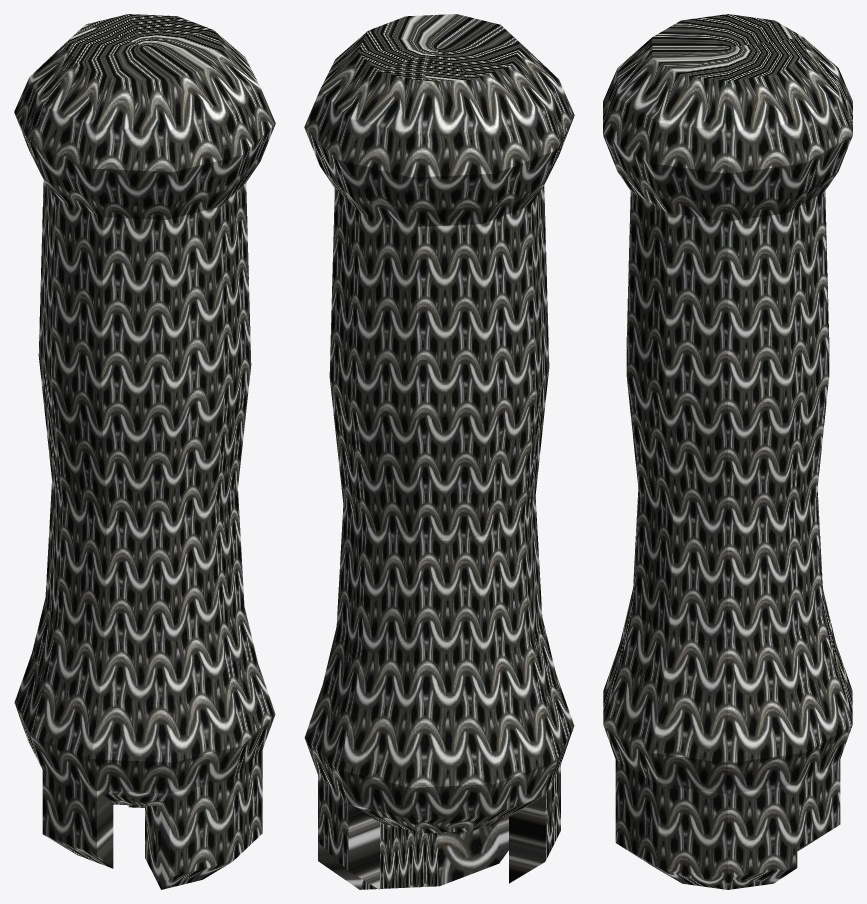
Rendered from LeftForearmArmorModel.fbx.
3 views of the same model, side by side, from view 1: azimuth 30°, elevation 25°; view 2: azimuth 150°, elevation 25°; view 3: azimuth 270°, elevation 25° (orthographic). The views are drawn at different scales.
Parts seen in each view (by area): view 1: pCylinder6; view 2: pCylinder6; view 3: pCylinder6.
Boxes of the visible parts, x1,y1,x2,y2 form: pCylinder6: [14, 14, 275, 889]; pCylinder6: [304, 14, 574, 889]; pCylinder6: [603, 14, 852, 889].
Bounding box in the file's own units: 26.31 × 89.46 × 25.02.
